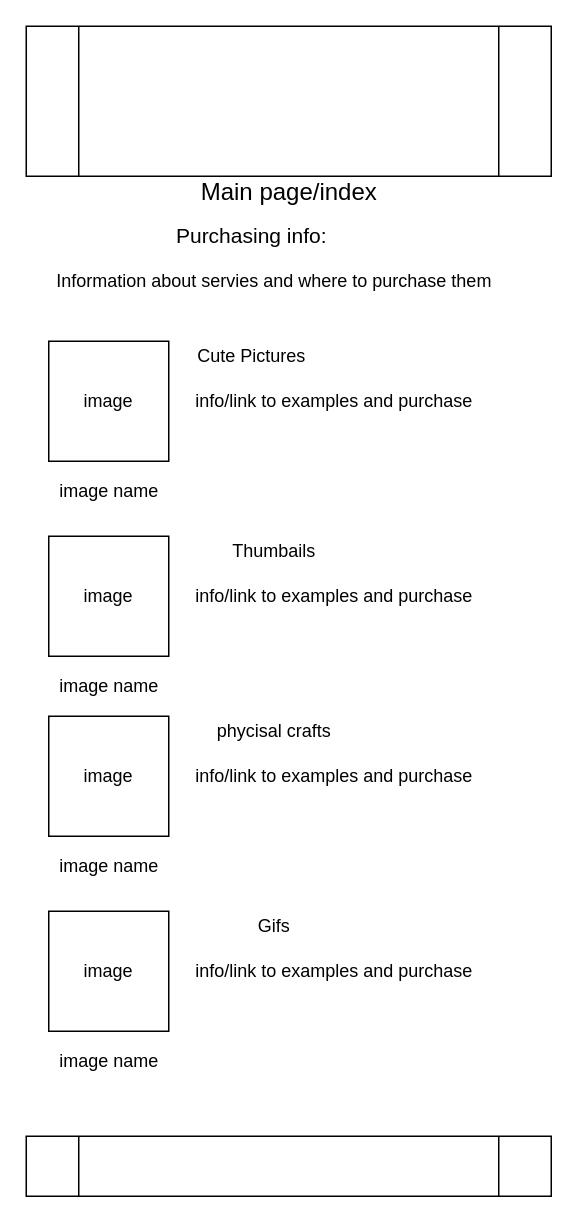
This 578x1223 diagram has some shape labels left out. The shapes that lost their labels are listed below. From the top down, each one's box as (x1, y1, x2, y2) in pixels, then its label:
(25, 25, 551, 176): Banner/links/header
(25, 1135, 551, 1196): Footer/Purchase Links
